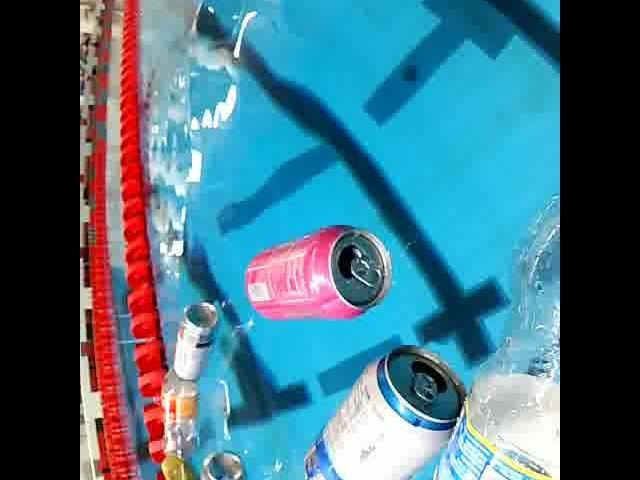Bottle: (416, 184, 560, 480), (157, 360, 200, 468)
Can: (296, 337, 472, 480), (242, 220, 396, 326), (174, 296, 218, 382), (195, 444, 247, 480), (158, 452, 202, 480)
